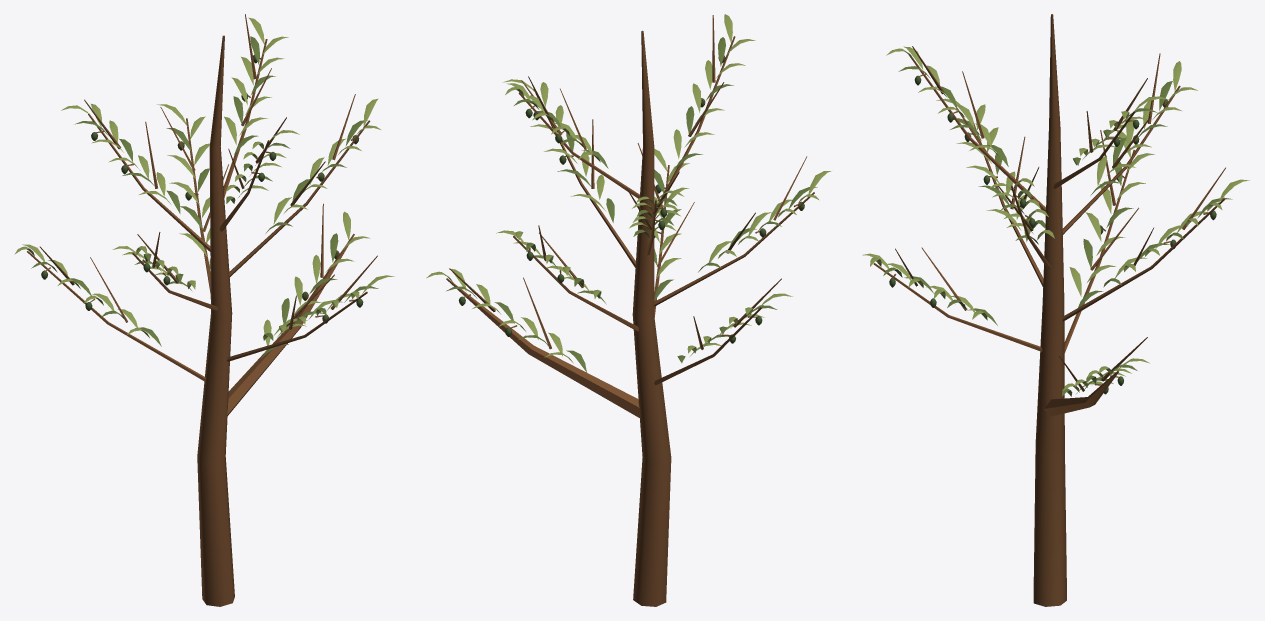
The model's file is crop_olive_tree_mature.glb.
3 views of the same model, side by side, from view 1: azimuth 30°, elevation 25°; view 2: azimuth 150°, elevation 25°; view 3: azimuth 270°, elevation 25° (orthographic). The views are drawn at different scales.
Parts seen in each view (by area): view 1: olive_b_0, olive_leaf_0_1, olive_leaf_0_0, olive_fruit_0_0; view 2: olive_b_0, olive_leaf_0_1, olive_leaf_0_0, olive_fruit_0_0; view 3: olive_b_0, olive_leaf_0_1, olive_leaf_0_0, olive_fruit_0_0.
Boxes of the visible parts, <box> form: olive_b_0: <box>27,14,377,606</box>; olive_leaf_0_1: <box>14,17,394,345</box>; olive_leaf_0_0: <box>31,36,378,358</box>; olive_fruit_0_0: <box>41,54,363,323</box>; olive_b_0: <box>446,15,814,606</box>; olive_leaf_0_1: <box>426,14,831,363</box>; olive_leaf_0_0: <box>446,37,817,372</box>; olive_fruit_0_0: <box>458,55,804,343</box>; olive_b_0: <box>873,14,1225,606</box>; olive_leaf_0_1: <box>862,46,1249,393</box>; olive_leaf_0_0: <box>883,66,1232,396</box>; olive_fruit_0_0: <box>889,75,1216,394</box>.
Size of the model in its own units: 1.7 by 2.62 by 1.57.
